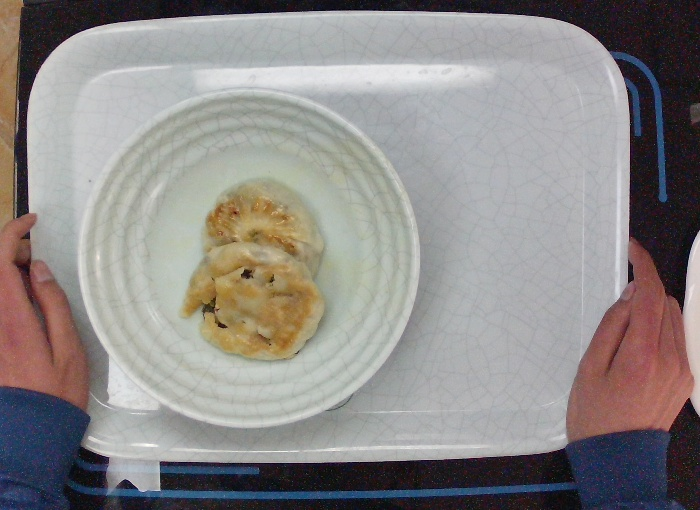JYsf-Da_Tang_Wan: (71, 83, 425, 440)
